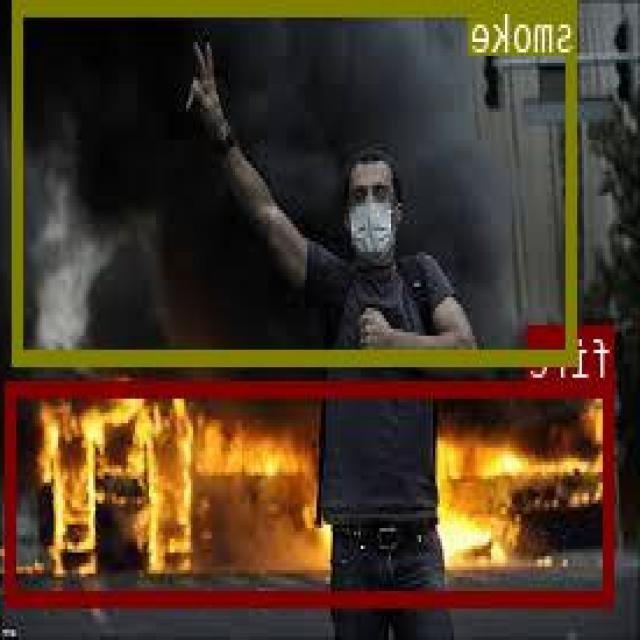fire: (8, 380, 616, 603)
smoke: (15, 0, 578, 364)
